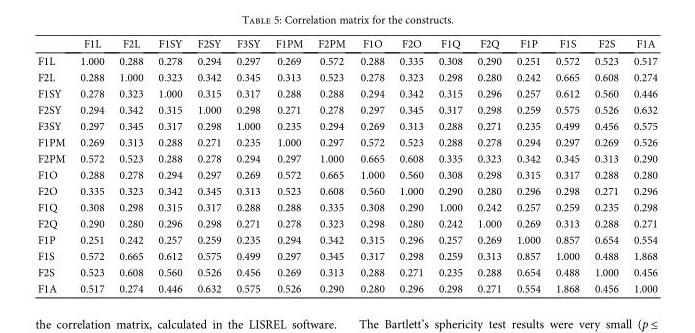table: (36, 36, 656, 294)
table column: (309, 36, 352, 294), (267, 36, 309, 294), (72, 36, 111, 294), (111, 36, 150, 294), (150, 36, 189, 294), (189, 36, 228, 294), (228, 36, 267, 294), (352, 36, 391, 294), (391, 36, 430, 294), (430, 36, 469, 294), (469, 36, 508, 294), (508, 36, 547, 294), (547, 36, 586, 294), (586, 36, 625, 294), (36, 36, 72, 294), (625, 36, 656, 294)
table column header: (36, 36, 656, 51)
table row: (36, 51, 656, 68), (36, 84, 656, 101), (36, 149, 656, 166), (36, 214, 656, 231), (36, 68, 656, 84), (36, 101, 656, 117), (36, 117, 656, 133), (36, 133, 656, 149), (36, 166, 656, 182), (36, 182, 656, 198), (36, 198, 656, 214), (36, 231, 656, 247), (36, 247, 656, 263), (36, 263, 656, 279), (36, 36, 656, 51), (36, 279, 656, 294)
